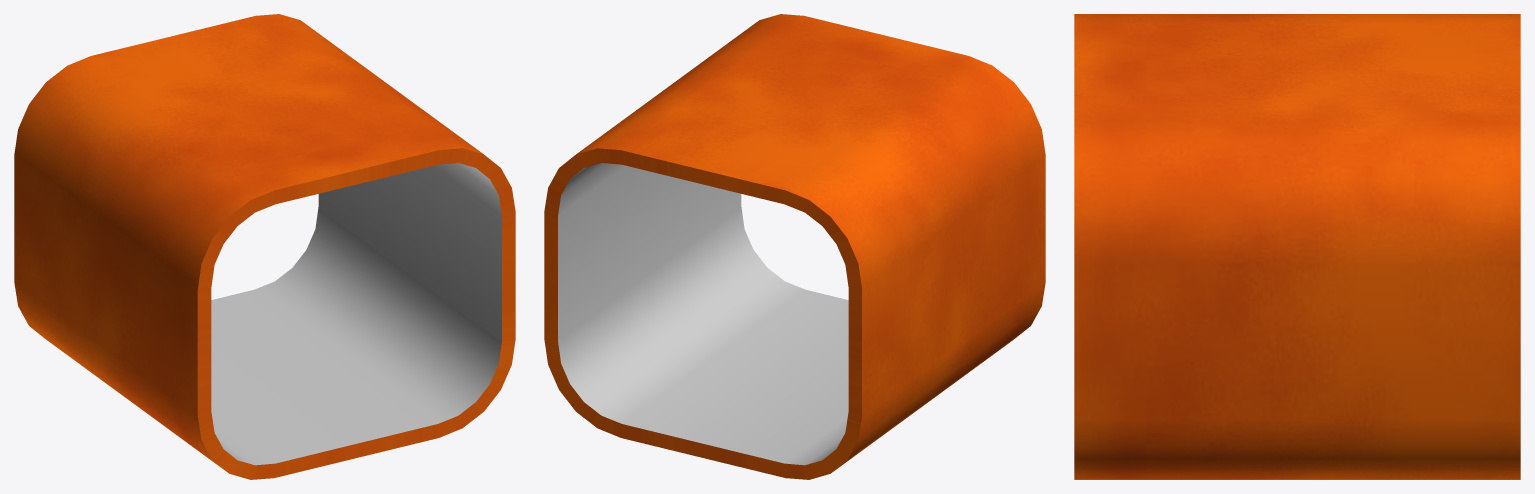
File: chair_3_o.fbx
The picture shows the model from 3 angles, left to right: view 1: azimuth 30°, elevation 25°; view 2: azimuth 150°, elevation 25°; view 3: azimuth 270°, elevation 25°; orthographic projection. The views are drawn at different scales.
Visible parts, largest first — view 1: chair_3_o; view 2: chair_3_o; view 3: chair_3_o.
Boxes of the visible parts, x1=… form: chair_3_o: x1=14, y1=14, x2=515, y2=479; chair_3_o: x1=544, y1=14, x2=1045, y2=479; chair_3_o: x1=1074, y1=14, x2=1520, y2=479.
Size of the model in its own units: 0.6961 by 0.6023 by 0.6961.
